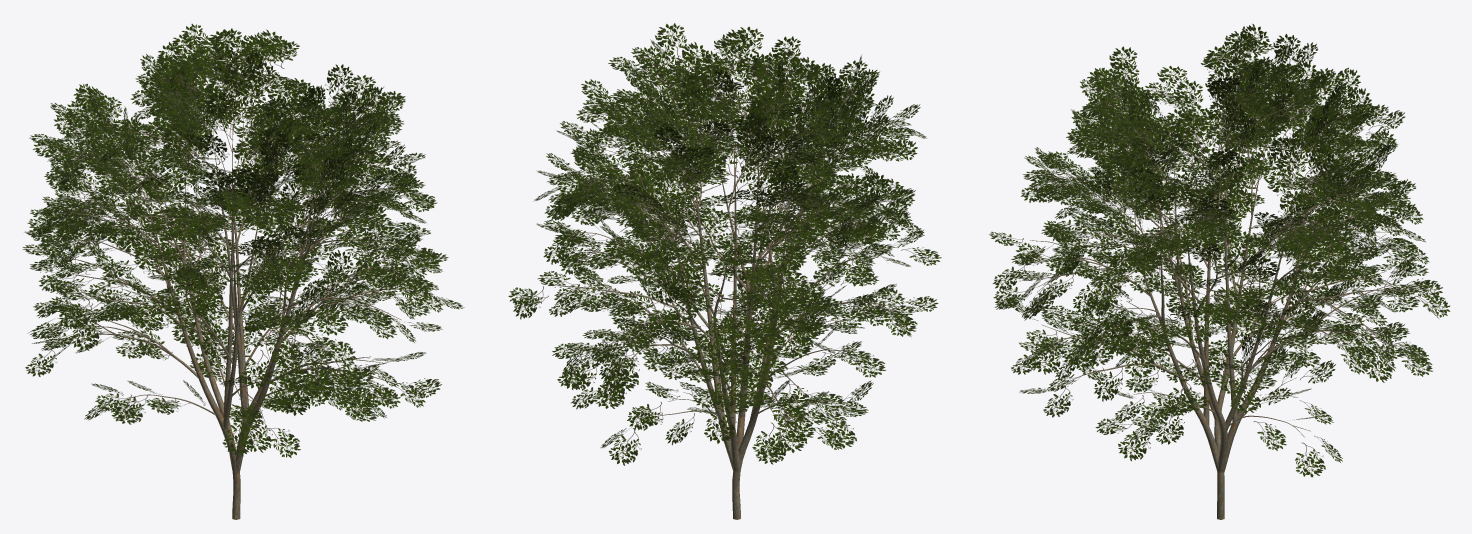
The model's file is SimpleTree-transformed.glb.
3 views of the same model, side by side, from view 1: azimuth 30°, elevation 25°; view 2: azimuth 150°, elevation 25°; view 3: azimuth 270°, elevation 25° (orthographic).
Visible parts, largest first — view 1: leaves.005_Leaf _02_0, tree.001_Pine Bark_0; view 2: leaves.005_Leaf _02_0, tree.001_Pine Bark_0; view 3: leaves.005_Leaf _02_0, tree.001_Pine Bark_0.
Boxes of the visible parts, x1=… form: leaves.005_Leaf _02_0: x1=23, y1=23, x2=464, y2=457; tree.001_Pine Bark_0: x1=57, y1=64, x2=422, y2=519; leaves.005_Leaf _02_0: x1=508, y1=23, x2=941, y2=465; tree.001_Pine Bark_0: x1=549, y1=65, x2=897, y2=519; leaves.005_Leaf _02_0: x1=989, y1=23, x2=1450, y2=477; tree.001_Pine Bark_0: x1=1030, y1=58, x2=1410, y2=519.
Size of the model in its own units: 3.58 by 4.14 by 3.76.
Materials: 2 (2 with a texture image).
